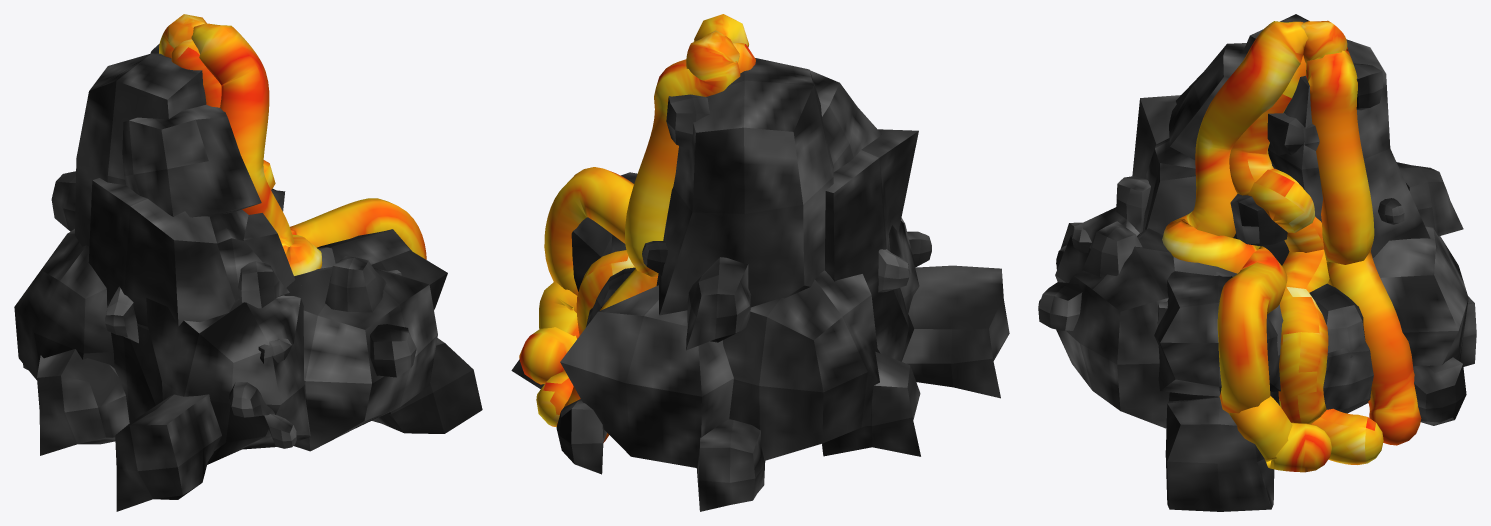
Rendered from volcanoLowPoly.fbx.
3 renders of one model, left to right at view 1: azimuth 30°, elevation 25°; view 2: azimuth 150°, elevation 25°; view 3: azimuth 270°, elevation 25°, orthographic. The views are drawn at different scales.
Parts seen in each view (by area): view 1: BézierCurve; view 2: BézierCurve; view 3: BézierCurve.
Part boxes in pixels (bbox=[...]): BézierCurve: bbox=[14, 14, 482, 511]; BézierCurve: bbox=[511, 14, 1009, 511]; BézierCurve: bbox=[1038, 14, 1476, 511].
Bounding box in the file's own units: 28325 × 28703 × 27726.
1 material, 1 textured.
